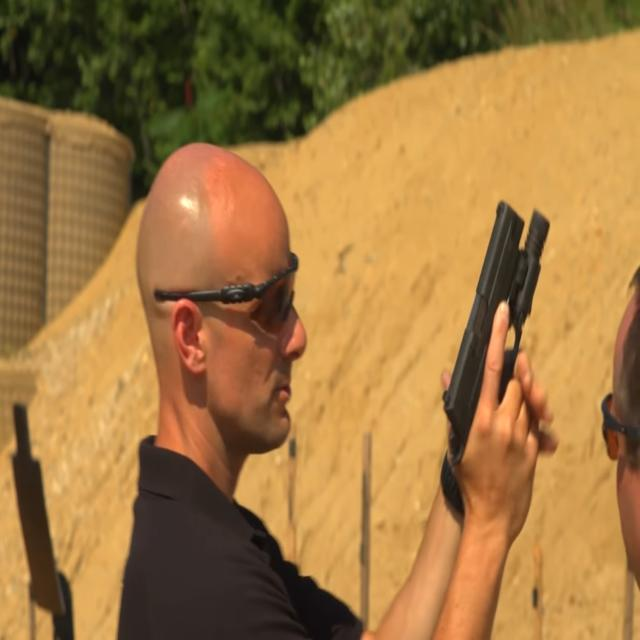Gun_Holder: (439, 208, 560, 520)
Person: (135, 144, 550, 640)
